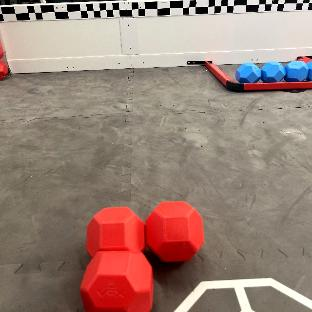V5_BLUE: (236, 61, 312, 83)
V5_RED: (80, 201, 204, 312)
